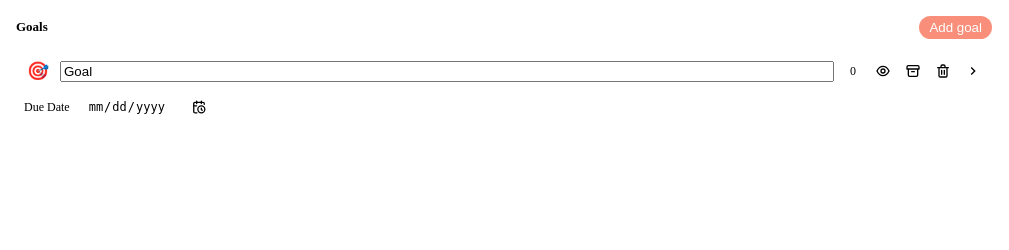
Test: document scope management panels › renders goal cards from the SQL snapshot without repeating the tree scan
Click the button with class "goal-panel-toggle" at (973,71), box [962, 60, 984, 82]
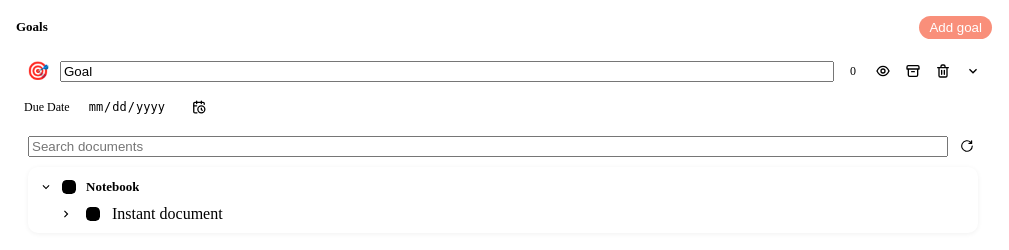
Now the element with class "goal-checkbox-list" is shown, box [28, 167, 980, 233]
Now the text with class "goal-checkbox-name" reads "Instant document", box [112, 205, 223, 222]
